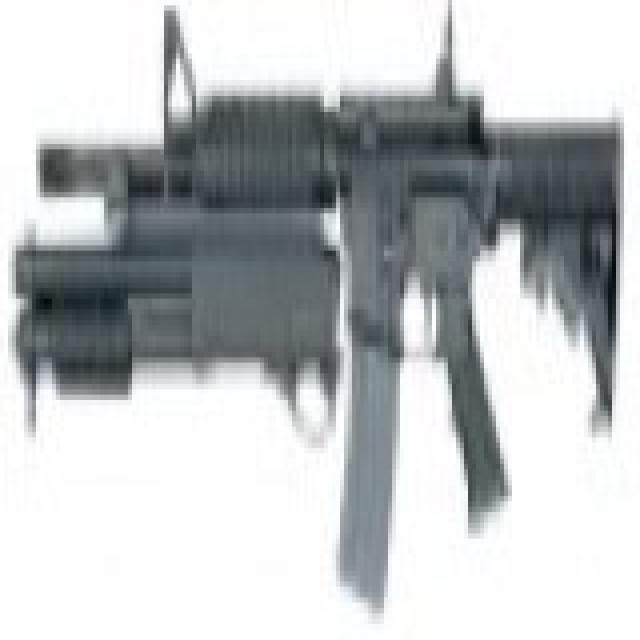Gun: (4, 3, 613, 601)
